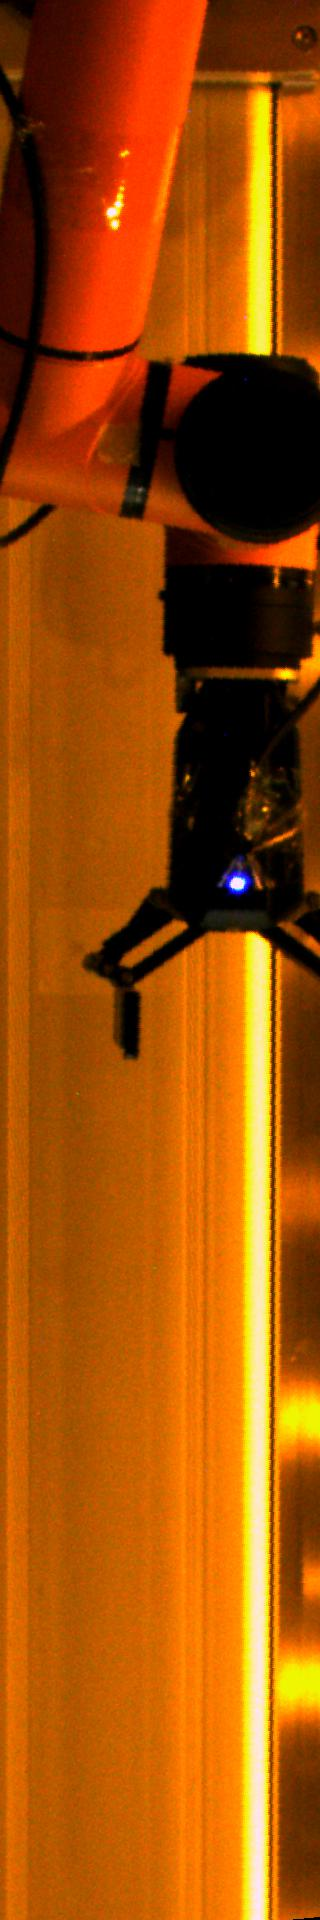keyPoint_1: (223, 867, 253, 898)
